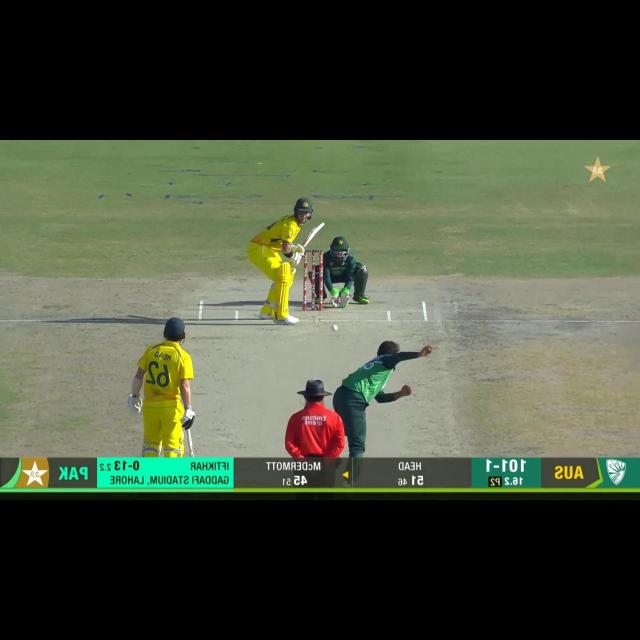bat: (300, 221, 326, 251), (186, 429, 198, 460)
toe: (314, 220, 327, 229)
